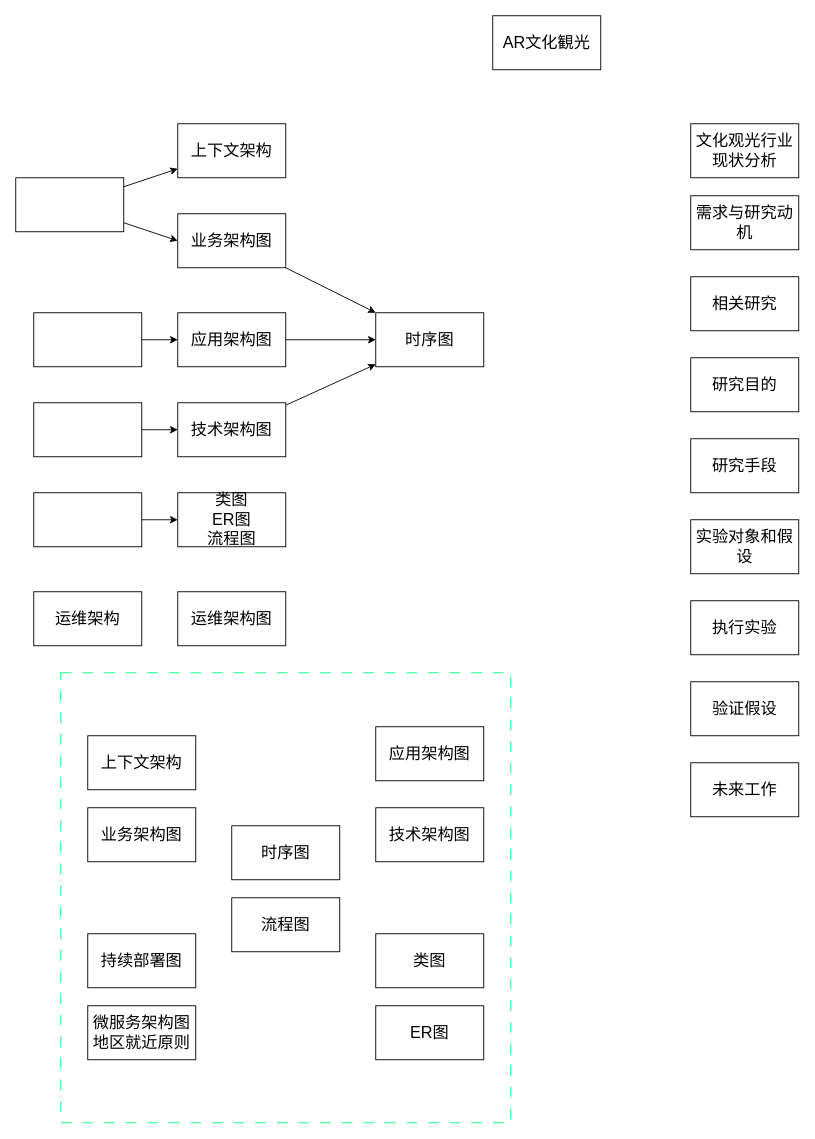
The diagram is 815 pixels wide and 1139 high, and some of its shapes have lost their labels. The centre of each missing label's shape, as x and y in pixels:
"上下文" belongs at pixel 69 204.
"代码" belongs at pixel 87 519.
"容器" belongs at pixel 87 339.
"组件" belongs at pixel 87 429.
